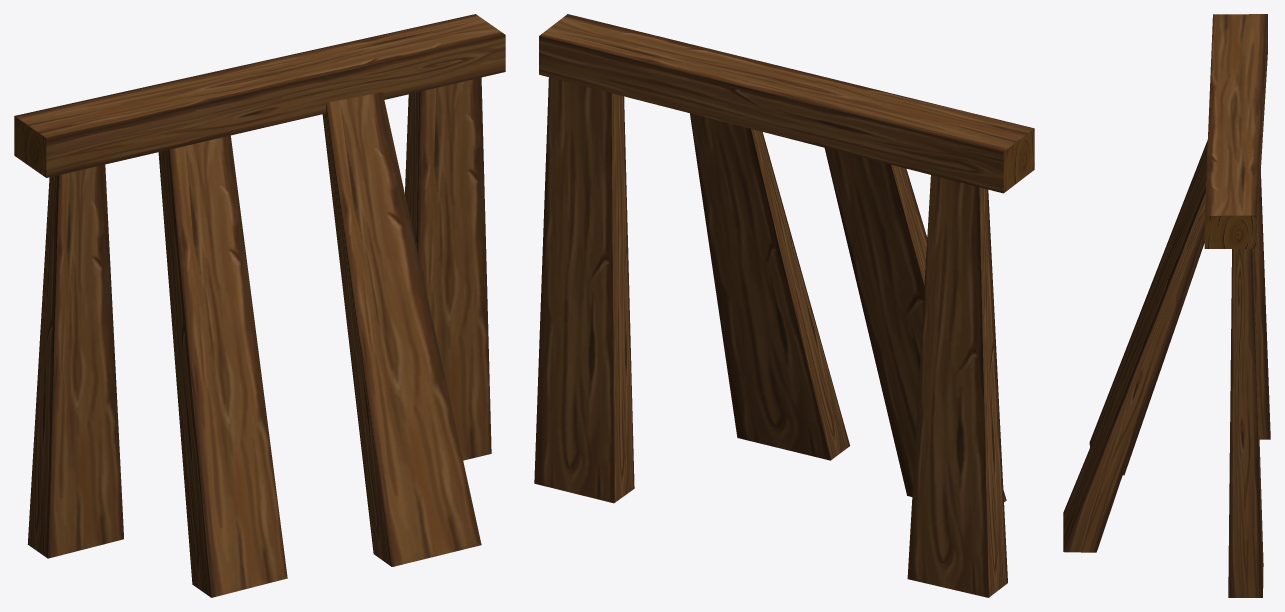
Rendered from Palo_sosten_2.fbx.
The picture shows the model from 3 angles, left to right: view 1: azimuth 30°, elevation 25°; view 2: azimuth 150°, elevation 25°; view 3: azimuth 270°, elevation 25°; orthographic projection. The views are drawn at different scales.
Parts seen in each view (by area): view 1: Palos sosten; view 2: Palos sosten; view 3: Palos sosten.
Boxes of the visible parts, box(x1,y1,x2,y2) form: Palos sosten: box(14, 14, 505, 597); Palos sosten: box(534, 14, 1034, 597); Palos sosten: box(1063, 14, 1270, 597).
Bounding box in the file's own units: 577 × 255 × 523.
1 material, 1 textured.
